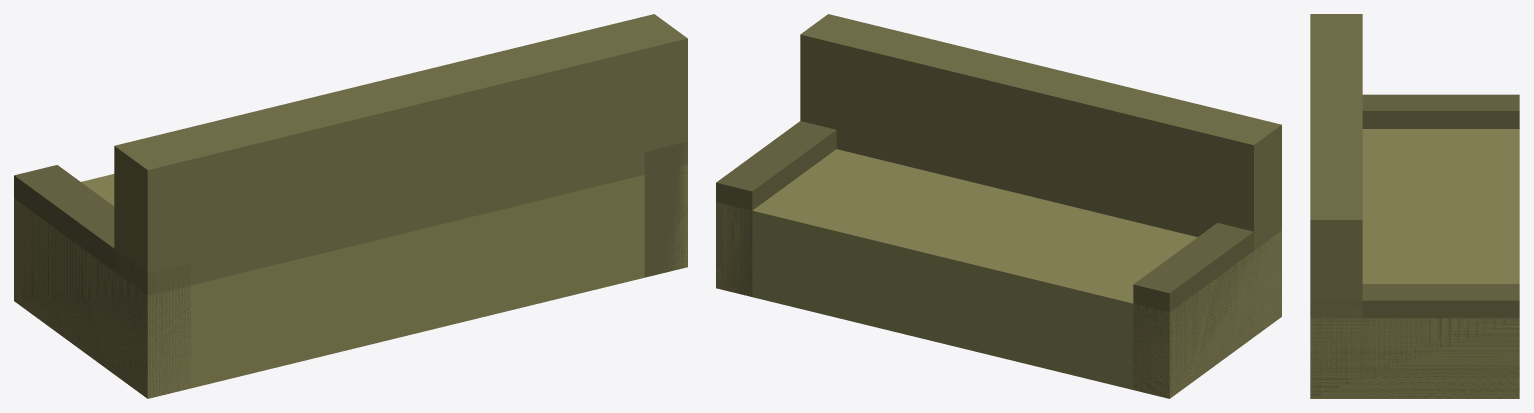
The model's file is sofa-3-seater.glb.
The picture shows the model from 3 angles, left to right: view 1: azimuth 30°, elevation 25°; view 2: azimuth 150°, elevation 25°; view 3: azimuth 270°, elevation 25°; orthographic projection. The views are drawn at different scales.
Size of the model in its own units: 210 by 85 by 90.
